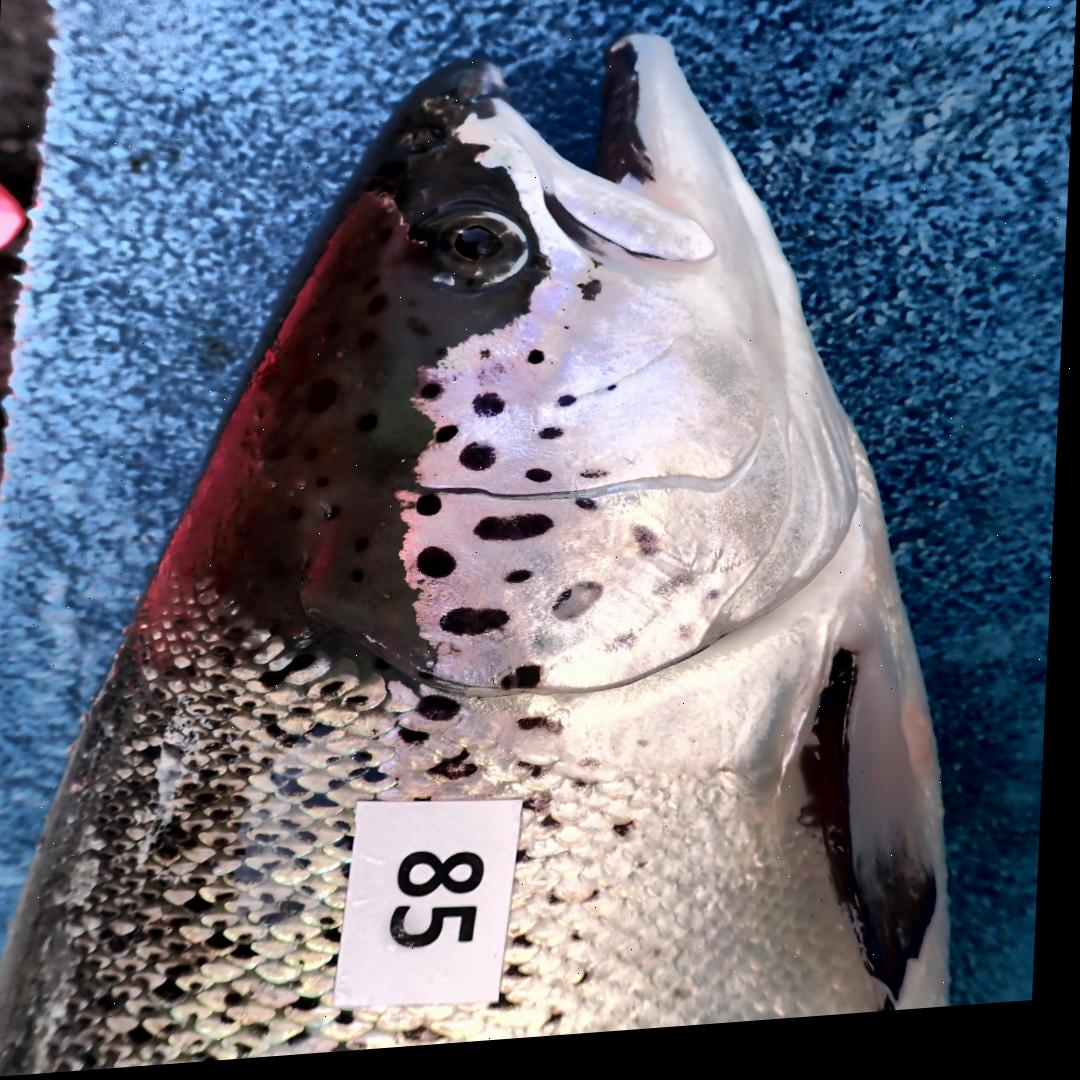spot: (477, 522, 558, 550), (444, 614, 514, 643), (558, 592, 608, 630), (420, 553, 461, 586), (506, 673, 548, 699), (462, 451, 500, 479), (635, 537, 664, 567), (475, 400, 507, 425), (418, 501, 447, 523), (580, 287, 604, 312), (439, 433, 463, 451), (510, 578, 539, 592), (423, 390, 447, 406), (531, 478, 557, 491), (529, 358, 549, 374), (544, 436, 567, 449), (579, 508, 602, 520), (583, 479, 611, 488), (619, 644, 639, 655), (562, 404, 580, 416), (712, 601, 725, 612), (482, 357, 493, 366), (611, 394, 621, 401)
